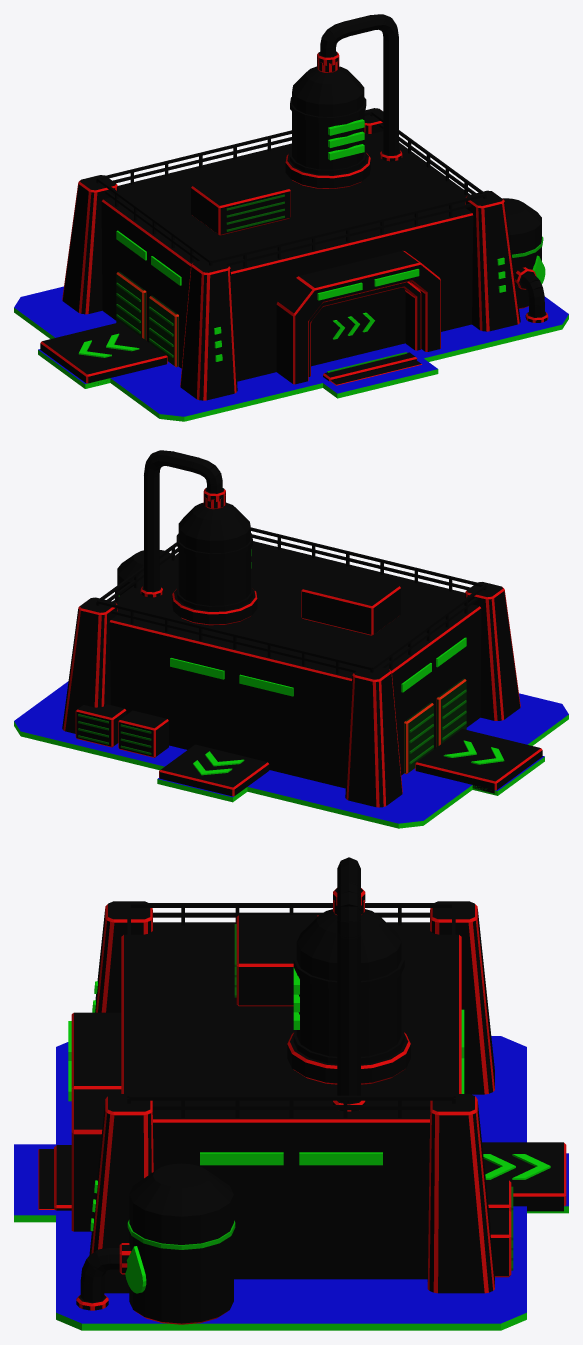
The model's file is SM_Holo_FluidPlant_T1.fbx.
3 renders of one model, top to bottom at view 1: azimuth 30°, elevation 25°; view 2: azimuth 150°, elevation 25°; view 3: azimuth 270°, elevation 25°, orthographic. The views are drawn at different scales.
Visible parts, largest first — view 1: SM_Holo_FluidPlant_T1; view 2: SM_Holo_FluidPlant_T1; view 3: SM_Holo_FluidPlant_T1.
Boxes of the visible parts, x1,y1,x2,y2 form: SM_Holo_FluidPlant_T1: [14, 14, 568, 421]; SM_Holo_FluidPlant_T1: [14, 450, 568, 828]; SM_Holo_FluidPlant_T1: [14, 857, 568, 1330].
Bounding box in the file's own units: 27.86 × 15.88 × 21.2.
